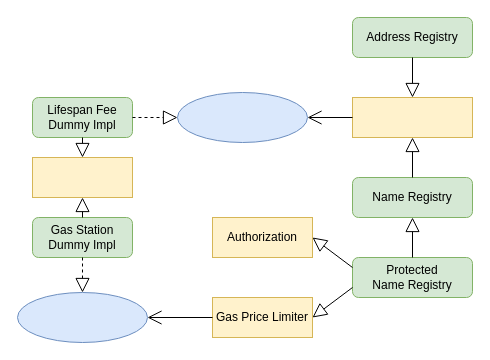
Image size: 490x360. Some labels were removed from this diagram. The centre of each missing label's shape, as x and y in pixels:
Gas Station Oracle: [82,317]
Lifespan Fee Oracle: [242,117]
Ownable: [82,177]
Record Registry: [412,117]
